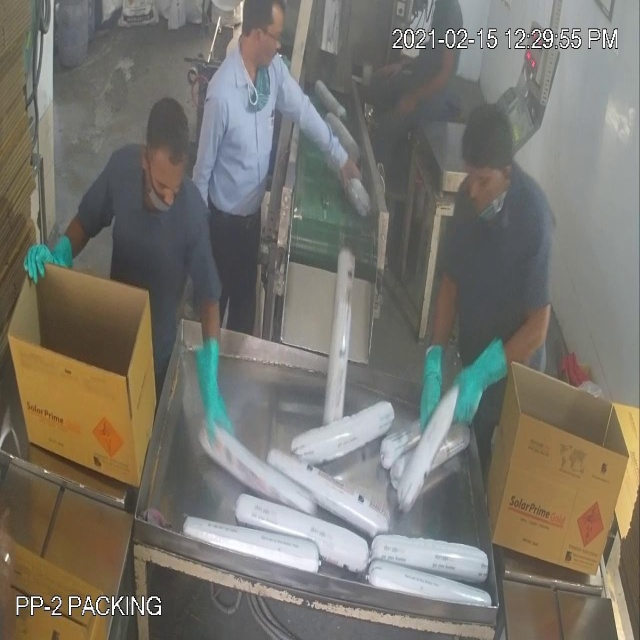Guantes: (454, 337, 522, 444), (187, 322, 235, 452), (16, 235, 78, 298), (419, 328, 451, 431)
Sin_guantes: (272, 53, 362, 204), (394, 46, 469, 132)
